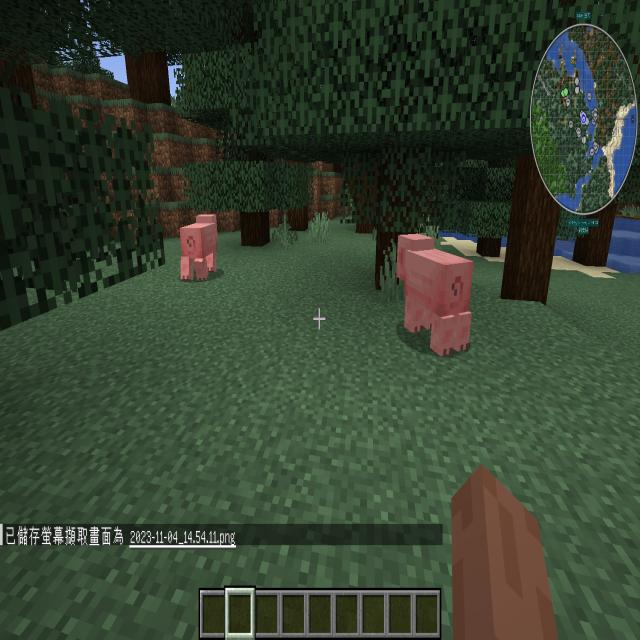pig: (387, 217, 482, 376), (169, 198, 229, 302)
